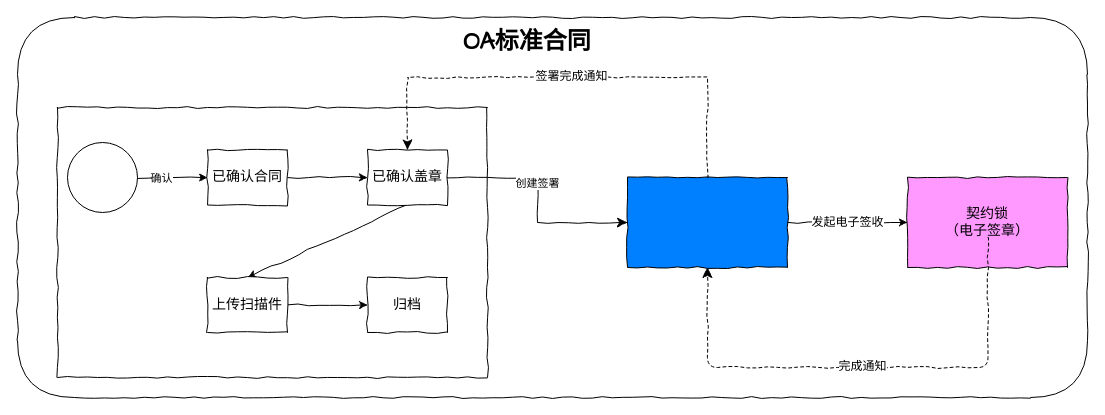
Some shapes in this 1105 by 415 pixel diagram are drawn without their labels. The centre of each missing label's shape, as x and y in pixels:
生成标准合同: point (102, 177)
电子签统一服务: point (707, 222)
